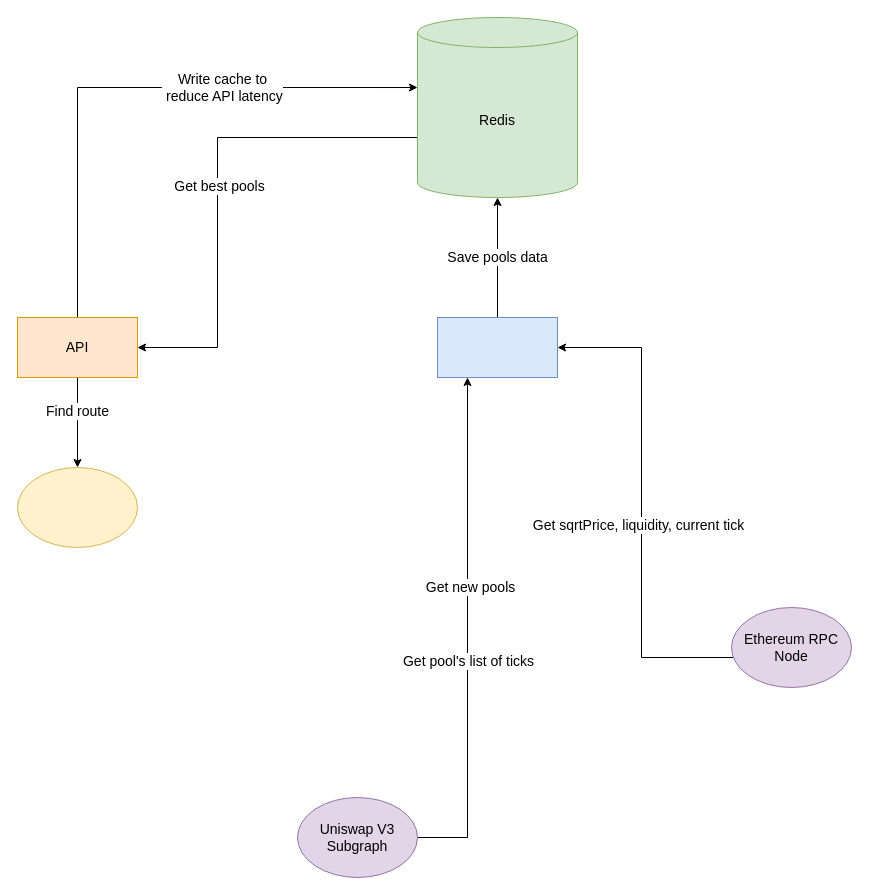
This 869x895 diagram has some shape labels left out. Each missing label, with the centre of its shape:
"Client" goes at point (77, 507).
"Scanner" goes at point (497, 347).
